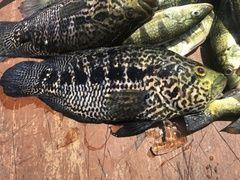Jaguar Gapote: (0, 45, 227, 136), (0, 0, 155, 60)
